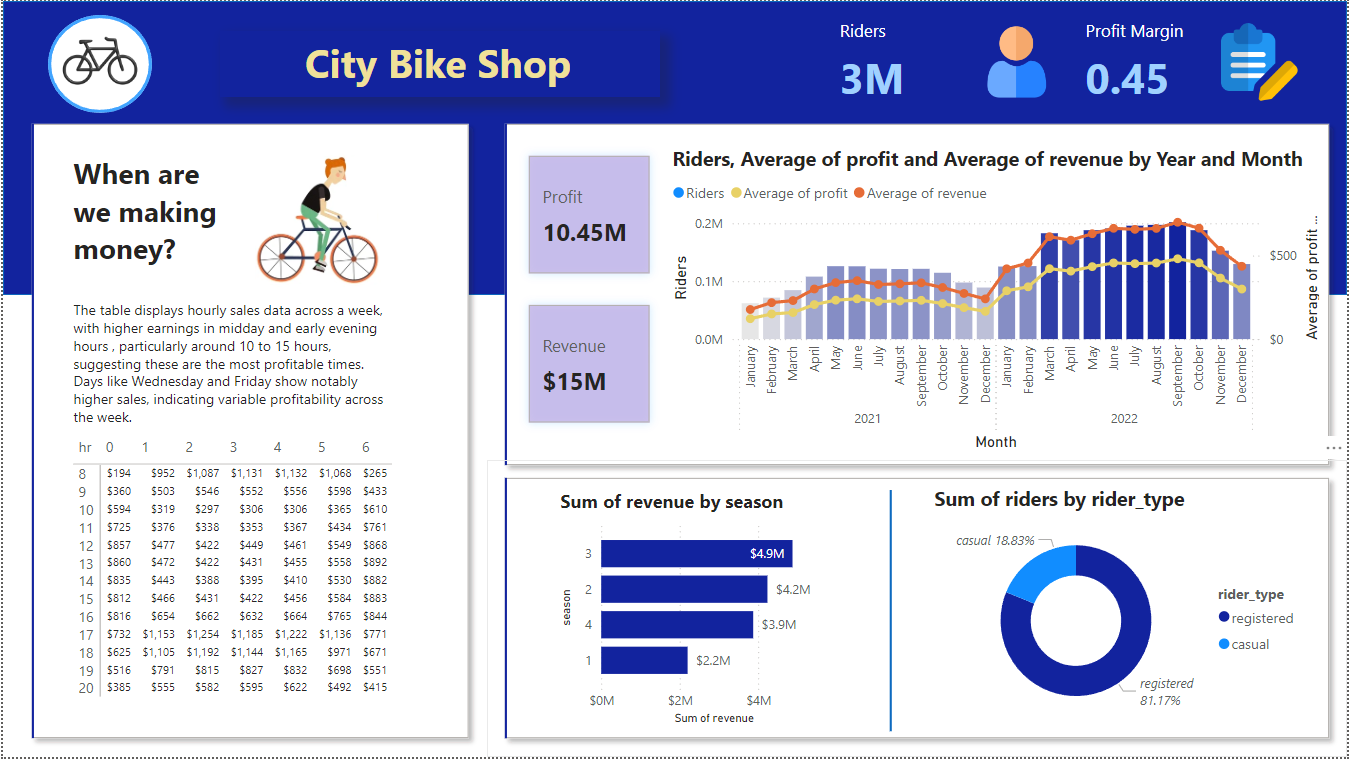

This screenshot's page, from the dashboard's own definition file:
{"tool":"powerbi","page":{"name":"Page 1","canvas":[1280,720],"ordinal":0},"visuals":[{"type":"shape","box":[0,0,1280,280.1],"z":0},{"type":"cardVisual","fields":{"Data":["Min(Query1.riders)"]},"box":[10.5,100,450.5,619],"z":1000},{"type":"cardVisual","fields":{"Data":["Min(Query1.riders)"]},"box":[461,100,819,359],"z":2000},{"type":"cardVisual","fields":{"Data":["Min(Query1.riders)"]},"box":[461,437.1,819,282.9],"z":3000},{"type":"cardVisual","fields":{"Data":["Min(Query1.riders)"]},"box":[180,121,263.8,159],"z":4000},{"type":"pivotTable","fields":{"Values":["Avg(Query1.revenue)"],"Columns":["Query1.weekday"],"Rows":["Query1.hr"]},"box":[62,410.3,337.3,266.2],"z":5000},{"type":"textbox","box":[61.9,140,159,135.2],"z":6000},{"type":"textbox","box":[61.9,280,310.5,132.4],"z":7000},{"type":"lineClusteredColumnComboChart","fields":{"Category":["Query1.dteday.Variation.Date Hierarchy.Year","Query1.dteday.Variation.Date Hierarchy.Month","Query1.dteday.Variation.Date Hierarchy.Day"],"Y":["Sum(Query1.riders)"],"Y2":["Avg(Query1.profit)","Avg(Query1.revenue)"]},"box":[632.4,137.1,625.7,296.2],"z":8000},{"type":"clusteredBarChart","fields":{"Category":["Query1.season"],"Y":["Sum(Query1.revenue)"]},"box":[526,464,276.2,229.7],"z":9000},{"type":"donutChart","fields":{"Category":["Query1.rider_type"],"Y":["Sum(Query1.riders)"]},"box":[881.6,461.3,361.9,233.4],"z":10000},{"type":"shape","box":[829.6,465.9,31.9,229.7],"z":11000},{"type":"cardVisual","fields":{"Data":["Sum(Query1.profit)","Sum(Query1.revenue)"]},"box":[484.8,131.4,147.6,287.6],"z":12000},{"type":"cardVisual","fields":{"Data":["Sum(Query1.riders)","Query1.Profit Margin"]},"box":[780,0,470.5,106.7],"z":13000},{"type":"shape","box":[42.9,13.3,99,93.3],"z":14000},{"type":"image","box":[41,11.4,102.9,91.4],"z":15000},{"type":"textbox","box":[206.7,28.6,419,62.9],"z":16000}]}

Visuals, with their boxes in screenshot pixels (x1, y1, x2, y2), scaled from the page's 1280x720 canvas onto the 1351x762 screenshot:
shape: box=[0, 0, 1350, 296]
cardVisual - Min(Query1.riders): box=[11, 106, 487, 761]
cardVisual - Min(Query1.riders): box=[487, 106, 1350, 486]
cardVisual - Min(Query1.riders): box=[487, 463, 1350, 761]
cardVisual - Min(Query1.riders): box=[190, 128, 468, 296]
pivotTable - Avg(Query1.revenue) x Query1.weekday: box=[65, 434, 421, 716]
textbox: box=[65, 148, 233, 291]
textbox: box=[65, 296, 393, 436]
lineClusteredColumnComboChart - Query1.dteday.Variation.Date Hierarchy.Year x Query1.dteday.Variation.Date Hierarchy.Month: box=[667, 145, 1328, 459]
clusteredBarChart - Query1.season x Sum(Query1.revenue): box=[555, 491, 847, 734]
donutChart - Query1.rider_type x Sum(Query1.riders): box=[931, 488, 1312, 735]
shape: box=[876, 493, 909, 736]
cardVisual - Sum(Query1.profit) x Sum(Query1.revenue): box=[512, 139, 667, 443]
cardVisual - Sum(Query1.riders) x Query1.Profit Margin: box=[823, 0, 1320, 113]
shape: box=[45, 14, 150, 113]
image: box=[43, 12, 152, 109]
textbox: box=[218, 30, 660, 97]
